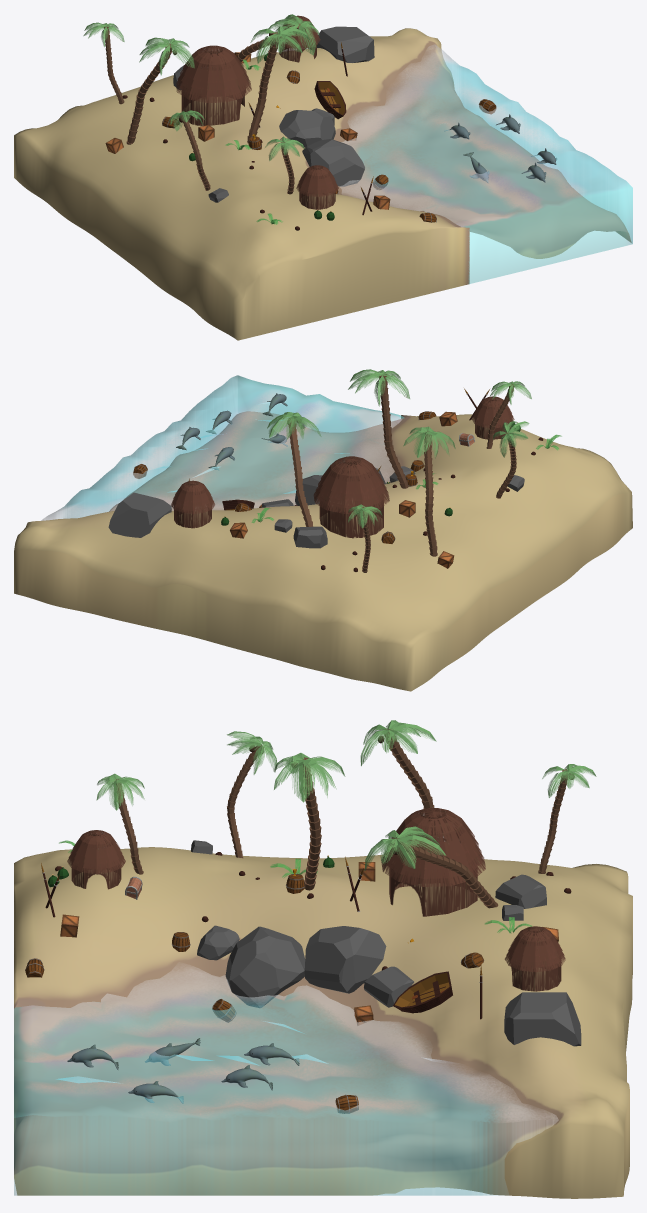
Rendered from Mixtos.glb.
3 renders of one model, top to bottom at view 1: azimuth 30°, elevation 25°; view 2: azimuth 150°, elevation 25°; view 3: azimuth 270°, elevation 25°, orthographic. The views are drawn at different scales.
Parts seen in each view (by area): view 1: spiaggia, mare, Cylinder.004, sass05, sasso3, sasso4, Cylinder.002, Cylinder.003, palma 2.002, palma 2.003, Cube.001, palma 2.006; view 2: spiaggia, mare, Cylinder.004, sasso3, Cylinder.003, Cylinder.002, palma 2.003, palma 2.002, palma 2.004, sasso 2, sasso4; view 3: spiaggia, mare, Cylinder.004, sass05, sasso4, sasso3, Cylinder.003, Cylinder.002, Cube.001, palma 2.002, sasso 2, sasso 2.001 (+7 smaller).
Boxes of the visible parts, bbox=[...] form: spiaggia: bbox=[14, 28, 631, 340]; mare: bbox=[339, 44, 632, 283]; Cylinder.004: bbox=[176, 45, 251, 125]; sass05: bbox=[302, 139, 364, 186]; sasso3: bbox=[317, 26, 374, 62]; sasso4: bbox=[279, 110, 335, 147]; Cylinder.002: bbox=[296, 165, 338, 209]; Cylinder.003: bbox=[279, 15, 320, 62]; palma 2.002: bbox=[247, 32, 278, 143]; palma 2.003: bbox=[126, 43, 172, 144]; Cube.001: bbox=[314, 81, 346, 119]; palma 2.006: bbox=[180, 114, 210, 190]; spiaggia: bbox=[14, 411, 632, 691]; mare: bbox=[41, 375, 404, 520]; Cylinder.004: bbox=[313, 456, 389, 538]; sasso3: bbox=[108, 492, 171, 537]; Cylinder.003: bbox=[171, 480, 214, 528]; Cylinder.002: bbox=[471, 396, 514, 439]; palma 2.003: bbox=[424, 431, 437, 556]; palma 2.002: bbox=[379, 374, 408, 488]; palma 2.004: bbox=[288, 418, 312, 526]; sasso 2: bbox=[293, 526, 327, 548]; sasso4: bbox=[295, 475, 322, 505]; spiaggia: bbox=[14, 847, 632, 1198]; mare: bbox=[14, 965, 558, 1195]; Cylinder.004: bbox=[381, 808, 485, 916]; sass05: bbox=[225, 926, 305, 1007]; sasso4: bbox=[304, 926, 386, 993]; sasso3: bbox=[504, 992, 581, 1046]; Cylinder.003: bbox=[504, 926, 565, 991]; Cylinder.002: bbox=[67, 830, 125, 889]; Cube.001: bbox=[393, 971, 452, 1013]; palma 2.002: bbox=[302, 757, 321, 890]; sasso 2: bbox=[495, 874, 546, 908]; sasso 2.001: bbox=[364, 966, 413, 1007].
Bounding box in the file's own units: 2060 × 961 × 1976.
12 materials, 11 textured.
